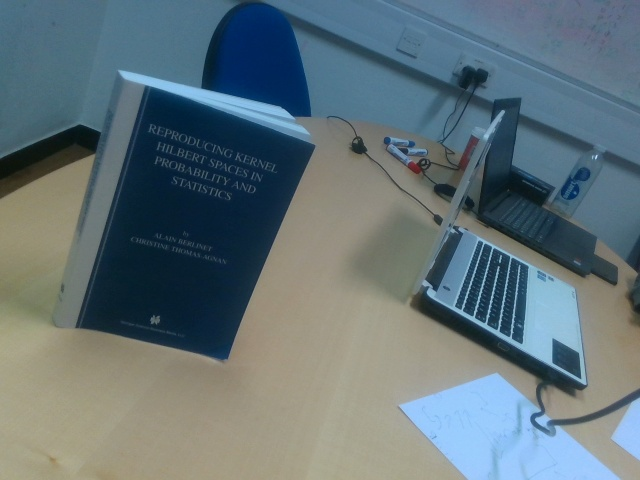book: (52, 68, 317, 361)
